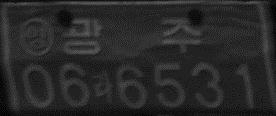0: (20, 62, 56, 110)
1: (229, 62, 261, 109)
3: (191, 61, 224, 109)
5: (152, 61, 186, 109)
6: (57, 62, 90, 109), (116, 63, 148, 110)
광주_D: (60, 17, 200, 57)
라: (91, 69, 115, 105)
영: (18, 17, 55, 57)
